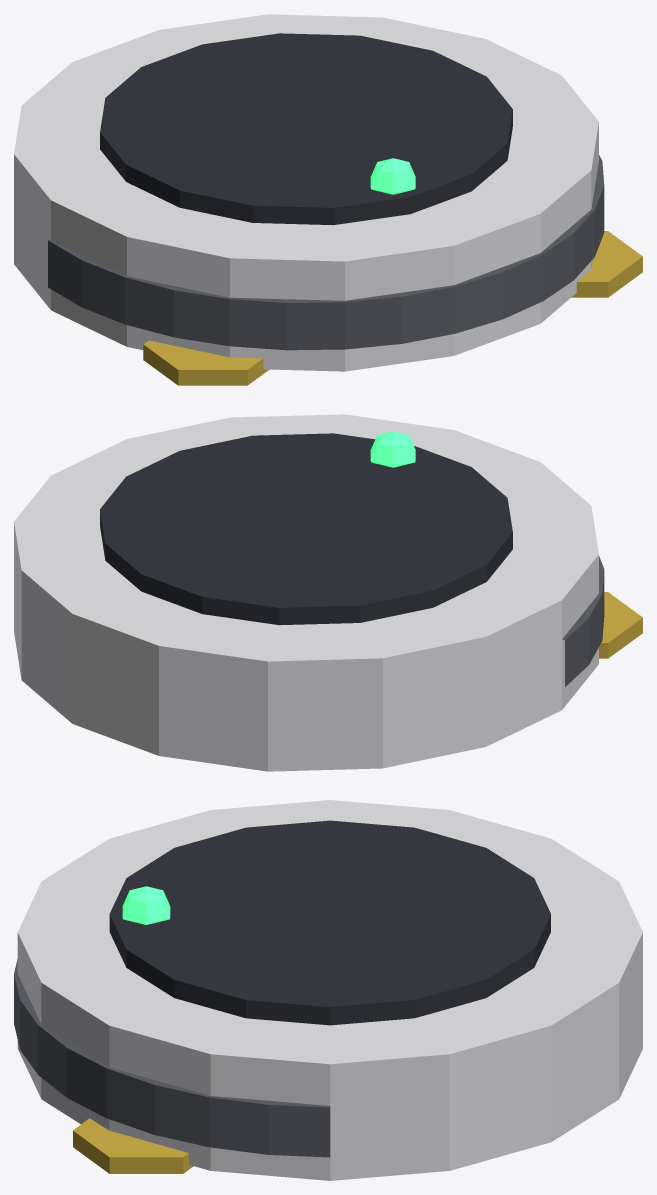
The model's file is robot_vacuum.glb.
The picture shows the model from 3 angles, top to bottom: view 1: azimuth 30°, elevation 25°; view 2: azimuth 150°, elevation 25°; view 3: azimuth 270°, elevation 25°; orthographic projection. The views are drawn at different scales.
Visible parts, largest first — view 1: body_vacuum_body, body_vacuum_top, body_vacuum_bumper, brush_brush (×2), light_vacuum_light; view 2: body_vacuum_body, body_vacuum_top, body_vacuum_bumper, brush_brush, light_vacuum_light; view 3: body_vacuum_body, body_vacuum_top, body_vacuum_bumper, brush_brush, light_vacuum_light.
Part boxes in pixels (x1,y1,x2,y2): body_vacuum_body: [14, 14, 598, 371]; body_vacuum_top: [100, 33, 512, 225]; body_vacuum_bumper: [48, 155, 604, 350]; brush_brush (×2): [143, 231, 642, 385]; light_vacuum_light: [370, 158, 415, 194]; body_vacuum_body: [14, 414, 598, 771]; body_vacuum_top: [100, 433, 512, 625]; body_vacuum_bumper: [562, 556, 604, 686]; brush_brush: [599, 592, 642, 658]; light_vacuum_light: [370, 431, 415, 467]; body_vacuum_body: [17, 800, 642, 1180]; body_vacuum_top: [109, 820, 550, 1025]; body_vacuum_bumper: [14, 959, 330, 1157]; brush_brush: [73, 1118, 193, 1173]; light_vacuum_light: [122, 886, 170, 924].
Bounding box in the file's own units: 0.344 × 0.1 × 0.342.
